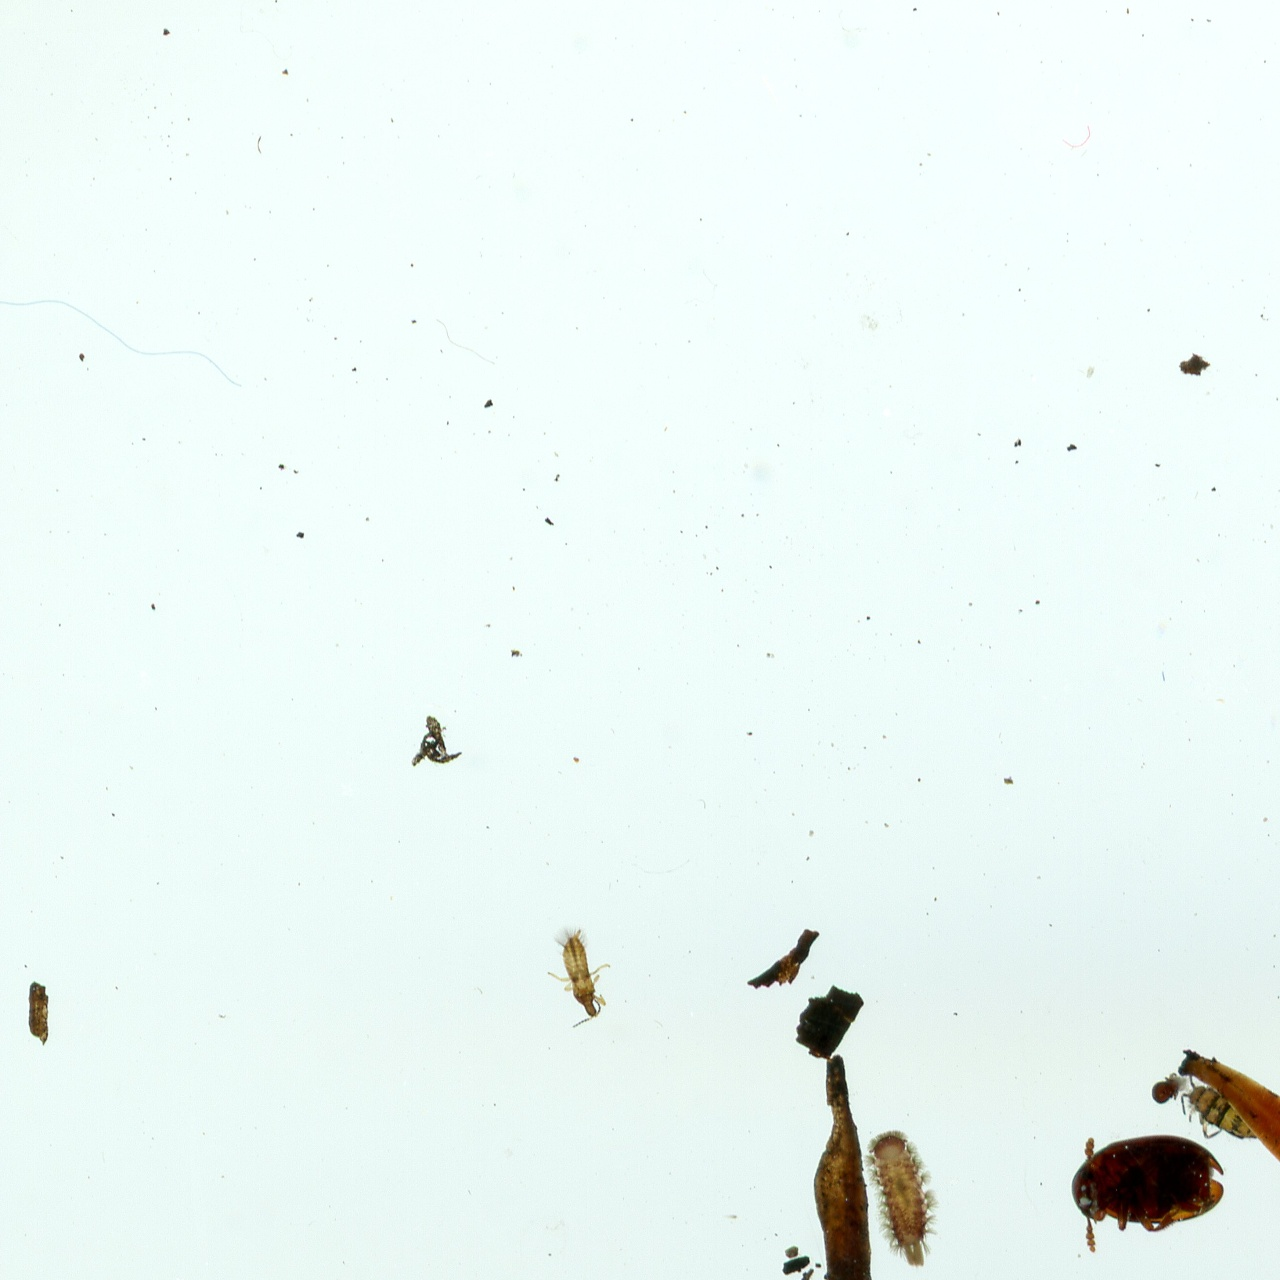arthropod: (1068, 1133, 1226, 1254), (860, 1125, 944, 1269), (545, 925, 614, 1030), (1179, 1074, 1258, 1141), (1150, 1070, 1182, 1107)
